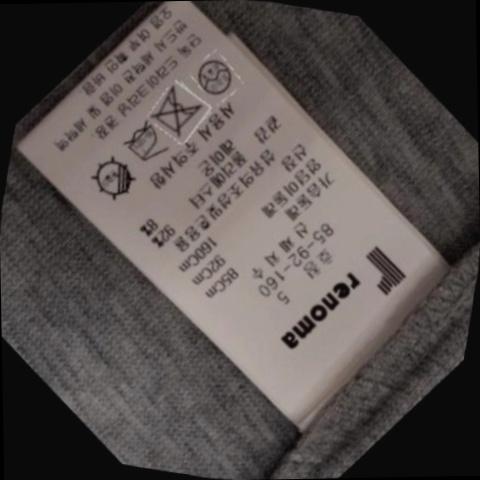DN_wash: (148, 84, 211, 140)
dry_clean_petrol_only: (192, 51, 241, 100)
iron_low: (117, 119, 173, 169)
line_dry_in_shade: (87, 153, 147, 206)
